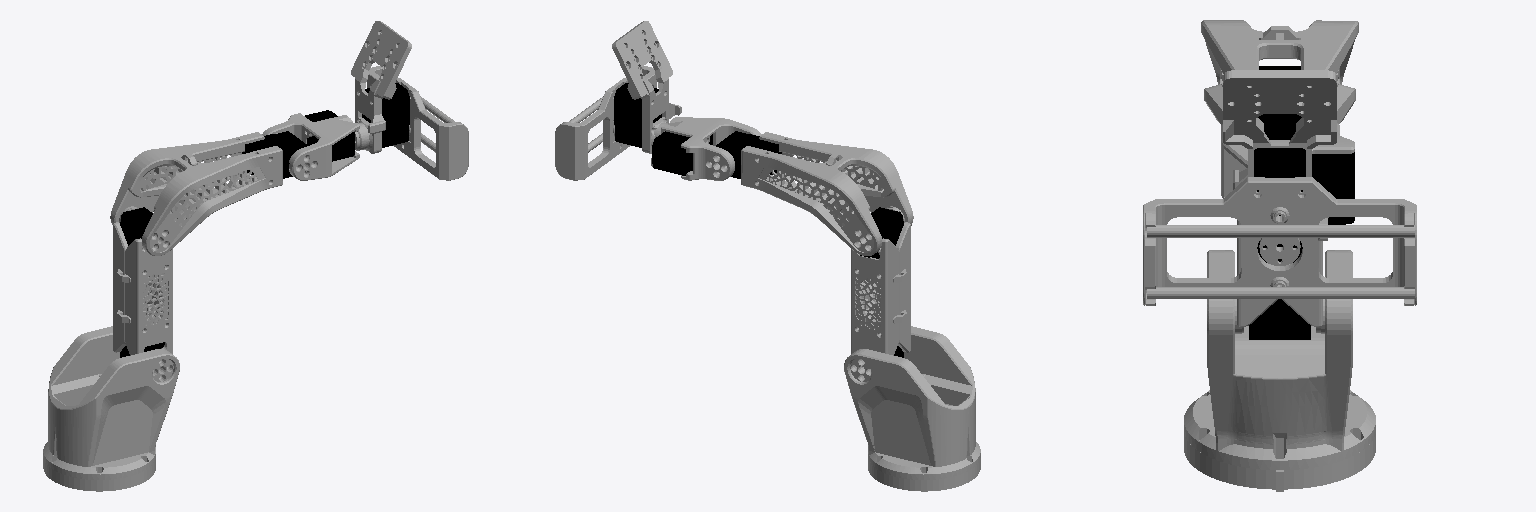
robot.urdf — so_arm_102_pre_for_urdf_v5:
<?xml version="1.0" ?>
<!-- SO-ARM 102 follower arm, Robonine (https://github.com/roboninecom/SO-ARM102) -->
<!-- Source: simulation/urdf/so_arm_102.urdf, simulation/urdf/meshes/*.stl and models/stl/SO-ARM102_Follower.STL at commit f0a993e -->
<!-- Licence: CC-BY-4.0 (simulation assets) / CERN-OHL-P-2.0 (models), see the repository's LICENSING.md -->
<!-- Changes for the station viewer: collision boxes removed; each link mesh split into a frame mesh and one mesh per servo so motors can be coloured by status -->
<robot name="so_arm_102_pre_for_urdf_v5">
  <material name="silver">
    <color rgba="0.7 0.7 0.7 1.0" />
  </material>
  <material name="so102_motor_1_material">
    <color rgba="0 0 0 1.0" />
  </material>
  <material name="so102_motor_2_material">
    <color rgba="0 0 0 1.0" />
  </material>
  <material name="so102_motor_3_material">
    <color rgba="0 0 0 1.0" />
  </material>
  <material name="so102_motor_4_material">
    <color rgba="0 0 0 1.0" />
  </material>
  <material name="so102_motor_5_material">
    <color rgba="0 0 0 1.0" />
  </material>
  <material name="so102_motor_6_material">
    <color rgba="0 0 0 1.0" />
  </material>
  <link name="base_link">
    <inertial>
      <origin xyz="-0.00753657459228 2.70964811146e-05 0.013641047398" rpy="0 0 0" />
      <mass value="0.178499229726" />
      <inertia ixx="0.000199871543864" iyy="0.000148679123423" izz="0.000331455821027" ixy="1.90199840717e-07" iyz="4.23062670743e-08" ixz="-2.10081183092e-06" />
    </inertial>
    <visual>
      <origin xyz="-0 -0 -0" rpy="0 0 0" />
      <geometry>
        <mesh filename="assets/base_link.stl" scale="0.001 0.001 0.001" />
      </geometry>
      <material name="silver" />
    </visual>
  </link>
  <link name="link1_1">
    <inertial>
      <origin xyz="0.000323477926688 -9.49285422888e-06 0.0277445919724" rpy="0 0 0" />
      <mass value="0.201603775922" />
      <inertia ixx="0.000198444068688" iyy="0.000237480937143" izz="0.000210354023061" ixy="7.13434120346e-08" iyz="8.6838415384e-08" ixz="-3.34183738347e-05" />
    </inertial>
    <visual>
      <origin xyz="0.006 1.10978314851e-16 -0.025" rpy="0 0 0" />
      <geometry>
        <mesh filename="assets/link1_1_frame.stl" scale="0.001 0.001 0.001" />
      </geometry>
      <material name="silver" />
    </visual>
    <visual>
      <origin xyz="0.006 1.10978314851e-16 -0.025" rpy="0 0 0" />
      <geometry>
        <mesh filename="assets/motor_1.stl" scale="0.001 0.001 0.001" />
      </geometry>
      <material name="so102_motor_1_material" />
    </visual>
  </link>
  <link name="link2_1">
    <inertial>
      <origin xyz="-9.08588393138e-05 0.0179996080154 0.0565027997369" rpy="0 0 0" />
      <mass value="0.180993297738" />
      <inertia ixx="0.000343822377525" iyy="0.000338733474867" izz="3.40211492897e-05" ixy="3.26214111802e-10" iyz="1.62595657322e-06" ixz="-8.83251140382e-08" />
    </inertial>
    <visual>
      <origin xyz="-0.034 0.018 -0.098356707952" rpy="0 0 0" />
      <geometry>
        <mesh filename="assets/link2_1_frame.stl" scale="0.001 0.001 0.001" />
      </geometry>
      <material name="silver" />
    </visual>
    <visual>
      <origin xyz="-0.034 0.018 -0.098356707952" rpy="0 0 0" />
      <geometry>
        <mesh filename="assets/motor_2.stl" scale="0.001 0.001 0.001" />
      </geometry>
      <material name="so102_motor_2_material" />
    </visual>
    <visual>
      <origin xyz="-0.034 0.018 -0.098356707952" rpy="0 0 0" />
      <geometry>
        <mesh filename="assets/motor_3.stl" scale="0.001 0.001 0.001" />
      </geometry>
      <material name="so102_motor_3_material" />
    </visual>
  </link>
  <link name="link3_1">
    <inertial>
      <origin xyz="0.0899345844067 -0.0180532098499 0.030929698344" rpy="0 0 0" />
      <mass value="0.121036400289" />
      <inertia ixx="4.68441522042e-05" iyy="0.000261776819052" izz="0.000274572705914" ixy="-3.51127629536e-07" iyz="-1.941119197e-08" ixz="-2.45262905805e-05" />
    </inertial>
    <visual>
      <origin xyz="-0.0340339589459 -0.017999879491 -0.211357541714" rpy="0 0 0" />
      <geometry>
        <mesh filename="assets/link3_1_frame.stl" scale="0.001 0.001 0.001" />
      </geometry>
      <material name="silver" />
    </visual>
    <visual>
      <origin xyz="-0.0340339589459 -0.017999879491 -0.211357541714" rpy="0 0 0" />
      <geometry>
        <mesh filename="assets/motor_4.stl" scale="0.001 0.001 0.001" />
      </geometry>
      <material name="so102_motor_4_material" />
    </visual>
  </link>
  <link name="link4_1">
    <inertial>
      <origin xyz="0.0367612549493 -0.00682773158541 -9.36509085222e-05" rpy="0 0 0" />
      <mass value="0.0850684506718" />
      <inertia ixx="2.5361050179e-05" iyy="2.1143272577e-05" izz="3.58784706539e-05" ixy="-2.59566550716e-06" iyz="4.37062265793e-08" ixz="1.43173507335e-07" />
    </inertial>
    <visual>
      <origin xyz="-0.1690931926 -0.0179996182572 -0.244995122636" rpy="0 0 0" />
      <geometry>
        <mesh filename="assets/link4_1_frame.stl" scale="0.001 0.001 0.001" />
      </geometry>
      <material name="silver" />
    </visual>
    <visual>
      <origin xyz="-0.1690931926 -0.0179996182572 -0.244995122636" rpy="0 0 0" />
      <geometry>
        <mesh filename="assets/motor_5.stl" scale="0.001 0.001 0.001" />
      </geometry>
      <material name="so102_motor_5_material" />
    </visual>
  </link>
  <link name="link5_1">
    <inertial>
      <origin xyz="0.0344926242899 -3.24353462452e-05 0.0128432467385" rpy="0 0 0" />
      <mass value="0.106616468137" />
      <inertia ixx="9.43485888891e-05" iyy="6.44606301656e-05" izz="7.93067623665e-05" ixy="-3.08426233239e-07" iyz="5.47431071095e-08" ixz="8.10180709222e-06" />
    </inertial>
    <visual>
      <origin xyz="-0.22828777435 6.48704621215e-07 -0.244954758855" rpy="0 0 0" />
      <geometry>
        <mesh filename="assets/link5_1_frame.stl" scale="0.001 0.001 0.001" />
      </geometry>
      <material name="silver" />
    </visual>
    <visual>
      <origin xyz="-0.22828777435 6.48704621215e-07 -0.244954758855" rpy="0 0 0" />
      <geometry>
        <mesh filename="assets/motor_6.stl" scale="0.001 0.001 0.001" />
      </geometry>
      <material name="so102_motor_6_material" />
    </visual>
  </link>
  <link name="clamp1_1">
    <inertial>
      <origin xyz="0.0150861322583 -0.0085189835284 -0.0166385856799" rpy="0 0 0" />
      <mass value="0.00734953722517" />
      <inertia ixx="1.97265726696e-06" iyy="5.39853666319e-06" izz="3.8596220542e-06" ixy="3.98221847911e-07" iyz="2.68780494505e-08" ixz="-1.19938943731e-07" />
    </inertial>
    <visual>
      <origin xyz="-0.292287773689 -0.0165014310175 -0.260952682391" rpy="0 0 0" />
      <geometry>
        <mesh filename="assets/clamp1_1.stl" scale="0.001 0.001 0.001" />
      </geometry>
      <material name="silver" />
    </visual>
  </link>
  <link name="clamp2_1">
    <inertial>
      <origin xyz="0.0150861312617 0.00851898352954 -0.0153534196604" rpy="0 0 0" />
      <mass value="0.00734953759363" />
      <inertia ixx="1.97257592577e-06" iyy="5.3984553248e-06" izz="3.85962221953e-06" ixy="-3.98222180309e-07" iyz="2.74954514022e-08" ixz="1.20960862679e-07" />
    </inertial>
    <visual>
      <origin xyz="-0.292287775113 0.0154985689825 -0.260952680771" rpy="0 0 0" />
      <geometry>
        <mesh filename="assets/clamp2_1.stl" scale="0.001 0.001 0.001" />
      </geometry>
      <material name="silver" />
    </visual>
  </link>
  <joint name="base_to_link1" type="revolute">
    <origin xyz="-0.006 -1.10978314851e-16 0.025" rpy="0 0 0" />
    <parent link="base_link" />
    <child link="link1_1" />
    <axis xyz="-3.48927236311e-15 -1.38855301773e-17 -1" />
    <limit effort="2.942" velocity="4.717" lower="-3.07177948351" upper="3.07177948351" />
  </joint>
  <joint name="link1_to_link2" type="revolute">
    <origin xyz="0.04 -0.018 0.073356707952" rpy="0 0 0" />
    <parent link="link1_1" />
    <child link="link2_1" />
    <axis xyz="3.7576779295e-14 -1 3.11848821907e-14" />
    <limit effort="4.903" velocity="7.874" lower="-2.32128790515" upper="1.58824961931" />
  </joint>
  <joint name="link2_to_link3" type="revolute">
    <origin xyz="3.39589458789e-05 0.035999879491 0.113000833762" rpy="0 0 0" />
    <parent link="link2_1" />
    <child link="link3_1" />
    <axis xyz="5.4643524895e-08 -1 3.71447673953e-08" />
    <limit effort="4.903" velocity="7.874" lower="-1.57079632679" upper="2.67035375555" />
  </joint>
  <joint name="link3_to_link4" type="revolute">
    <origin xyz="0.135059233654 -2.61233757511e-07 0.0336375809223" rpy="0 0 0" />
    <parent link="link3_1" />
    <child link="link4_1" />
    <axis xyz="-5.21611917629e-08 1 -3.41984371354e-08" />
    <limit effort="2.942" velocity="4.717" lower="-1.72787595947" upper="1.69296937443" />
  </joint>
  <joint name="link4_to_link5" type="revolute">
    <origin xyz="0.0591945817497 -0.0180002669618 -4.03637807994e-05" rpy="0 0 0" />
    <parent link="link4_1" />
    <child link="link5_1" />
    <axis xyz="-1 -4.90398764451e-08 1.40482066922e-10" />
    <limit effort="2.942" velocity="4.717" lower="-2.87979326579" upper="2.84488668075" />
  </joint>
  <joint name="clamp1" type="prismatic">
    <origin xyz="0.0639999993385 0.0165020797222 0.0159979235363" rpy="0 0 0" />
    <parent link="link5_1" />
    <child link="clamp1_1" />
    <axis xyz="-5.21612507542e-08 1 4.50838078172e-08" />
    <limit effort="408.6" velocity="0.0340" lower="0" upper="0.0415" />
  </joint>
  <joint name="clamp2" type="prismatic">
    <origin xyz="0.0640000007627 -0.0154979202778 0.0159979219163" rpy="0 0 0" />
    <parent link="link5_1" />
    <child link="clamp2_1" />
    <axis xyz="-4.9039873492e-08 1 4.73420869362e-08" />
    <limit effort="408.6" velocity="0.0340" lower="-0.0415" upper="3.46944695195e-17" />
    <mimic joint="clamp1" multiplier="-1" offset="0" />
  </joint>
</robot>

--- Facts derived from the render (not from the file) ---
The picture shows the robot from 3 angles, left to right: view 1: azimuth 30°, elevation 25°; view 2: azimuth 150°, elevation 25°; view 3: azimuth 270°, elevation 25°; orthographic projection.
Robot: so_arm_102_pre_for_urdf_v5 — 8 links, 7 joints (5 revolute, 2 prismatic); root link base_link; default pose: all joints at 0.
Visible links, largest first — view 1: link1_1, link3_1, link5_1, link2_1, link4_1; view 2: link1_1, link3_1, link5_1, link2_1, link4_1; view 3: link5_1, link1_1, link3_1, link2_1, link4_1.
Boxes of the visible links, x1=… form: link1_1: x1=43, y1=326, x2=179, y2=491; link3_1: x1=110, y1=131, x2=307, y2=255; link5_1: x1=351, y1=21, x2=468, y2=180; link2_1: x1=113, y1=207, x2=172, y2=357; link4_1: x1=262, y1=110, x2=359, y2=180; link1_1: x1=844, y1=326, x2=980, y2=491; link3_1: x1=716, y1=131, x2=913, y2=255; link5_1: x1=555, y1=21, x2=681, y2=180; link2_1: x1=851, y1=207, x2=910, y2=357; link4_1: x1=651, y1=117, x2=761, y2=180; link5_1: x1=1143, y1=70, x2=1416, y2=305; link1_1: x1=1184, y1=250, x2=1375, y2=491; link3_1: x1=1201, y1=20, x2=1358, y2=139; link2_1: x1=1237, y1=66, x2=1322, y2=339; link4_1: x1=1221, y1=123, x2=1354, y2=240.
Bounding box of the posed robot: 0.3483 × 0.128 × 0.3214 m (x, y, z).
Meshes: 14 distinct files referenced, 11 mesh visuals loaded (11 binary STL); not drawn: 3 (reference not matched to a file when rendering).
